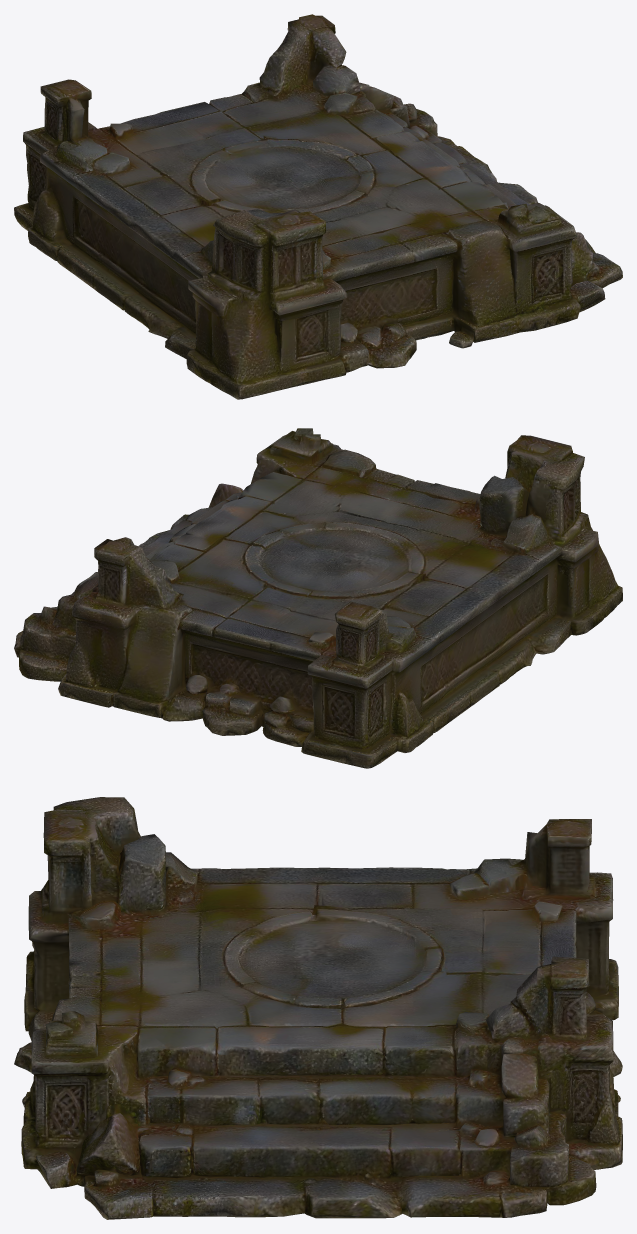
The model's file is broken-stone-stair-dais.glb.
3 renders of one model, top to bottom at view 1: azimuth 30°, elevation 25°; view 2: azimuth 150°, elevation 25°; view 3: azimuth 270°, elevation 25°, orthographic. The views are drawn at different scales.
Visible parts, largest first — view 1: tripo_node_2ab1f429-a9a0-43cc-a72e-2445fc23902f; view 2: tripo_node_2ab1f429-a9a0-43cc-a72e-2445fc23902f; view 3: tripo_node_2ab1f429-a9a0-43cc-a72e-2445fc23902f.
Boxes of the visible parts, x1,y1,x2,y2 form: tripo_node_2ab1f429-a9a0-43cc-a72e-2445fc23902f: (14, 14, 622, 399); tripo_node_2ab1f429-a9a0-43cc-a72e-2445fc23902f: (14, 428, 622, 768); tripo_node_2ab1f429-a9a0-43cc-a72e-2445fc23902f: (14, 797, 622, 1219).
Bounding box in the file's own units: 0.9838 × 0.3459 × 1.
Materials: 1 (1 with a texture image).
